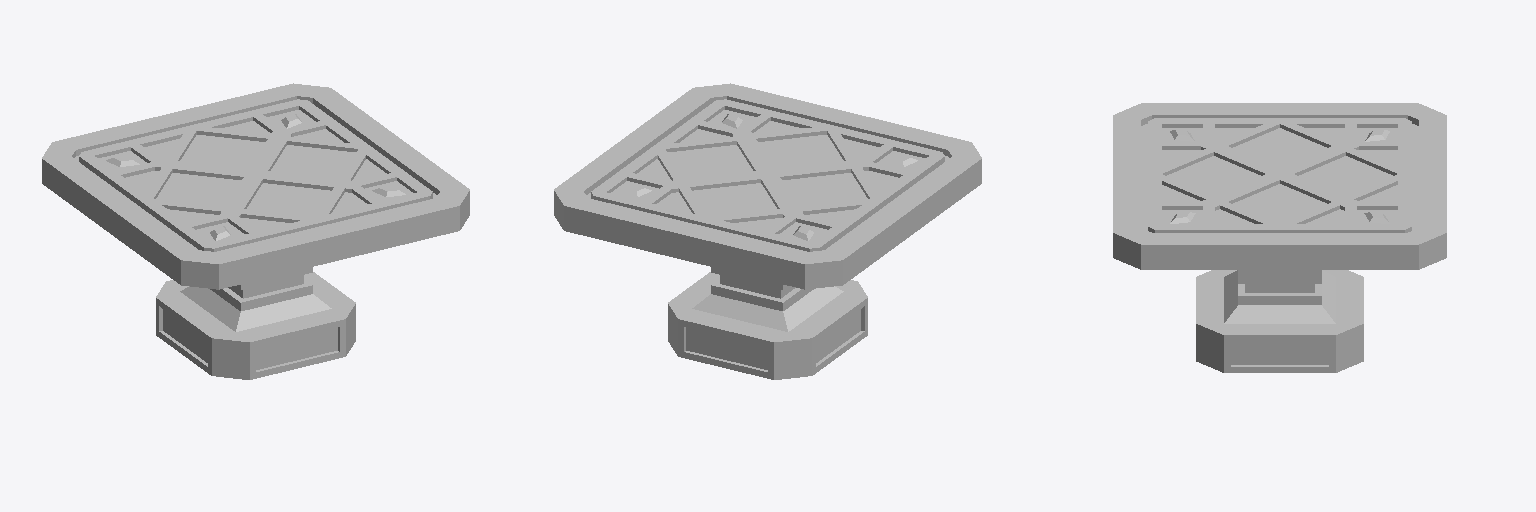
The model's file is FixtureTable.obj.
3 views of the same model, side by side, from view 1: azimuth 30°, elevation 25°; view 2: azimuth 150°, elevation 25°; view 3: azimuth 270°, elevation 25° (orthographic).
Visible parts, largest first — view 1: FixtureTable; view 2: FixtureTable; view 3: FixtureTable.
Boxes of the visible parts, box(x1,y1,x2,y2) form: FixtureTable: box(42, 83, 469, 379); FixtureTable: box(554, 83, 981, 379); FixtureTable: box(1113, 103, 1446, 372).
Size of the model in its own units: 2 by 1.08 by 2.